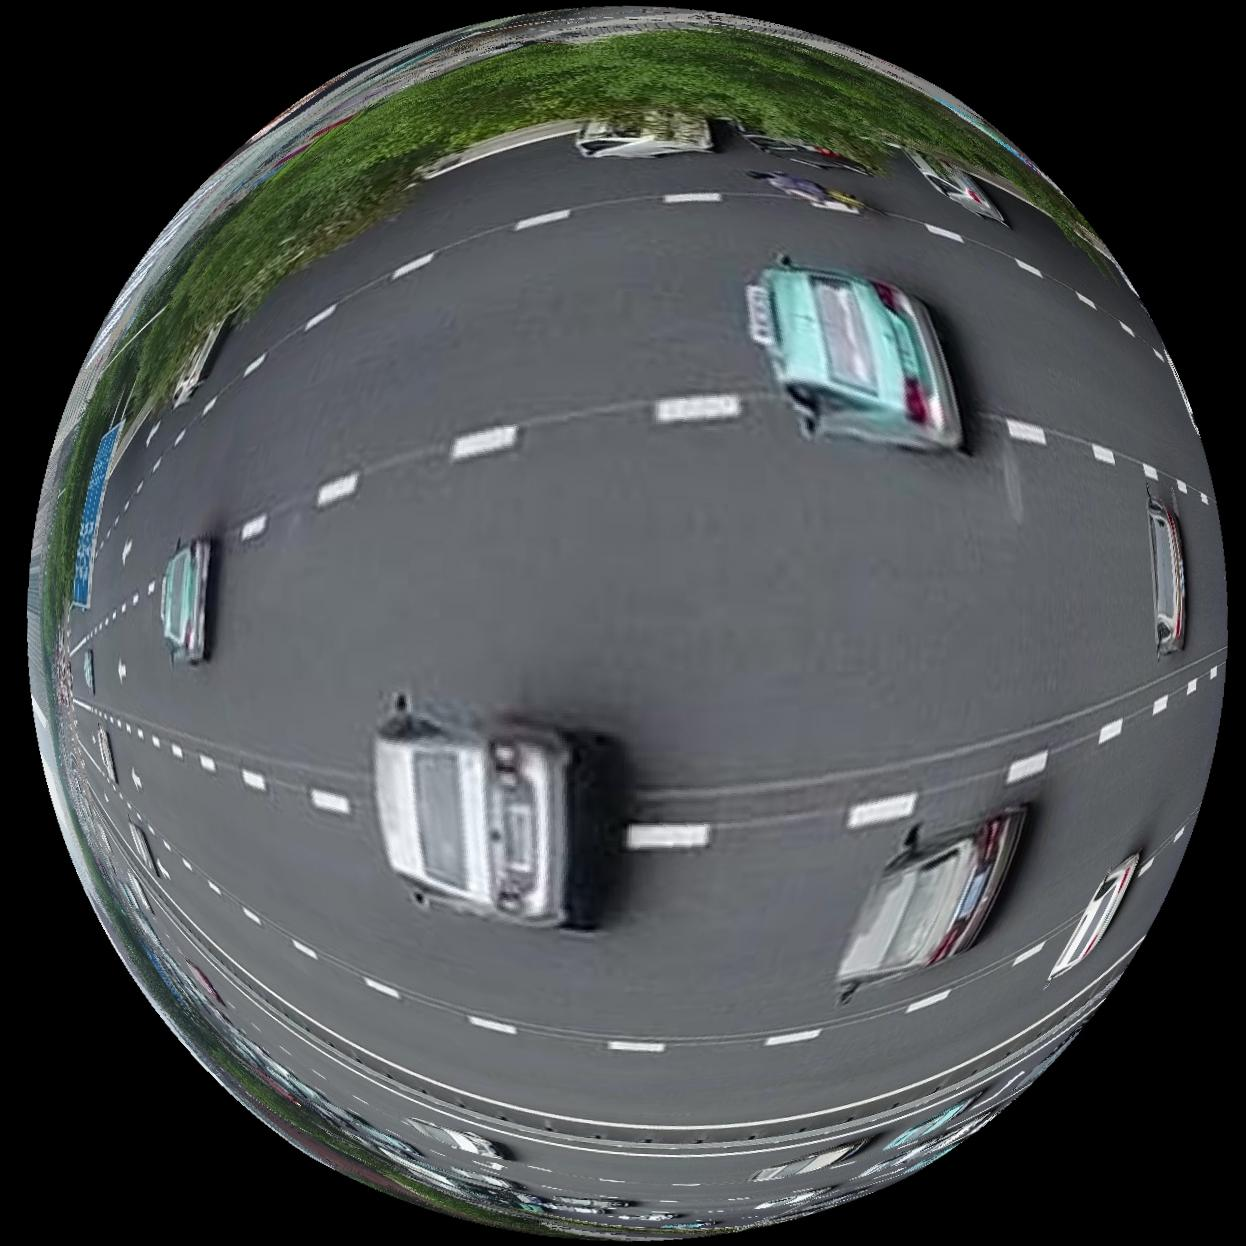cars: (373, 692, 621, 929), (748, 255, 964, 448), (838, 803, 1029, 1001), (1051, 852, 1142, 979), (727, 117, 874, 172), (905, 145, 1011, 221), (1149, 487, 1190, 655), (575, 106, 715, 155), (159, 534, 211, 664), (170, 311, 231, 405), (752, 1139, 870, 1182), (405, 1119, 510, 1161), (185, 960, 230, 1027), (128, 822, 159, 877), (92, 726, 116, 785), (128, 871, 152, 914), (83, 647, 94, 693)
trees: (748, 168, 832, 203)
